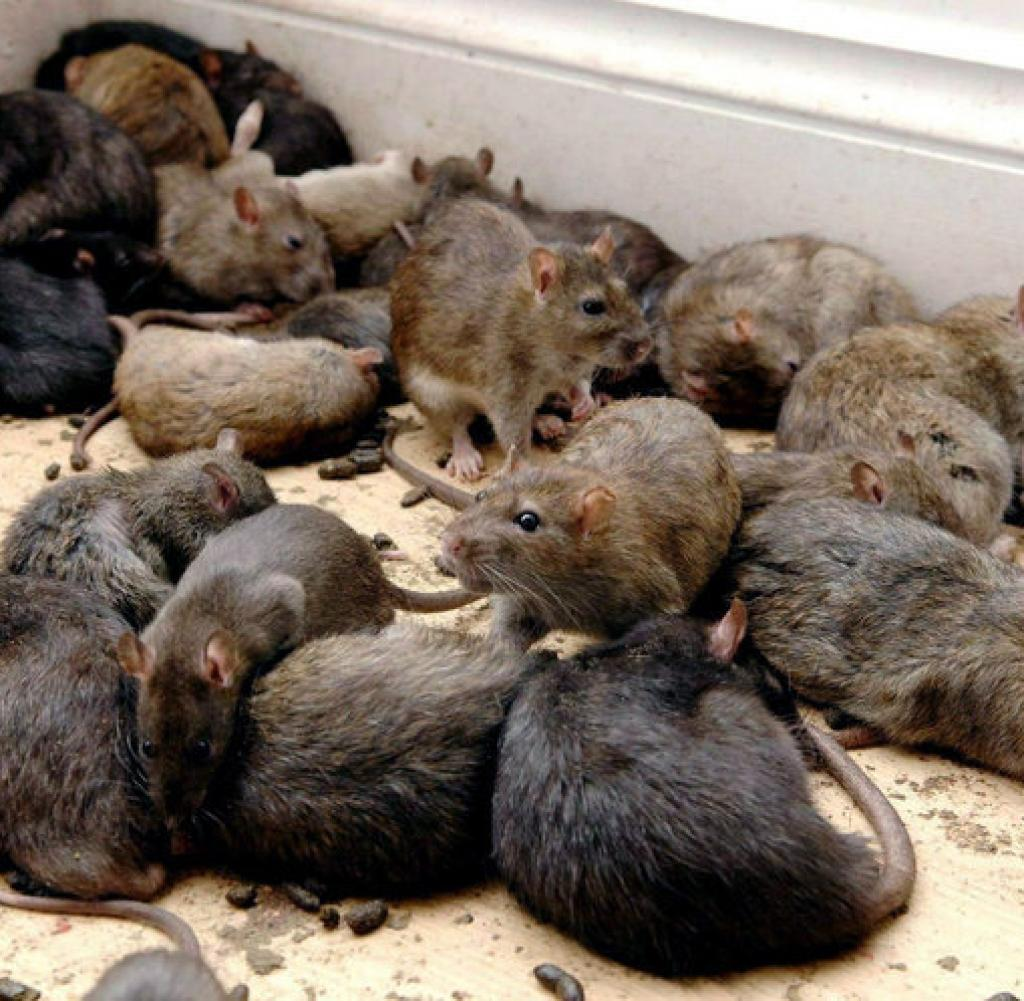rat: (484, 606, 837, 982), (435, 389, 757, 644), (384, 177, 673, 446), (104, 561, 272, 845), (151, 172, 365, 323)
